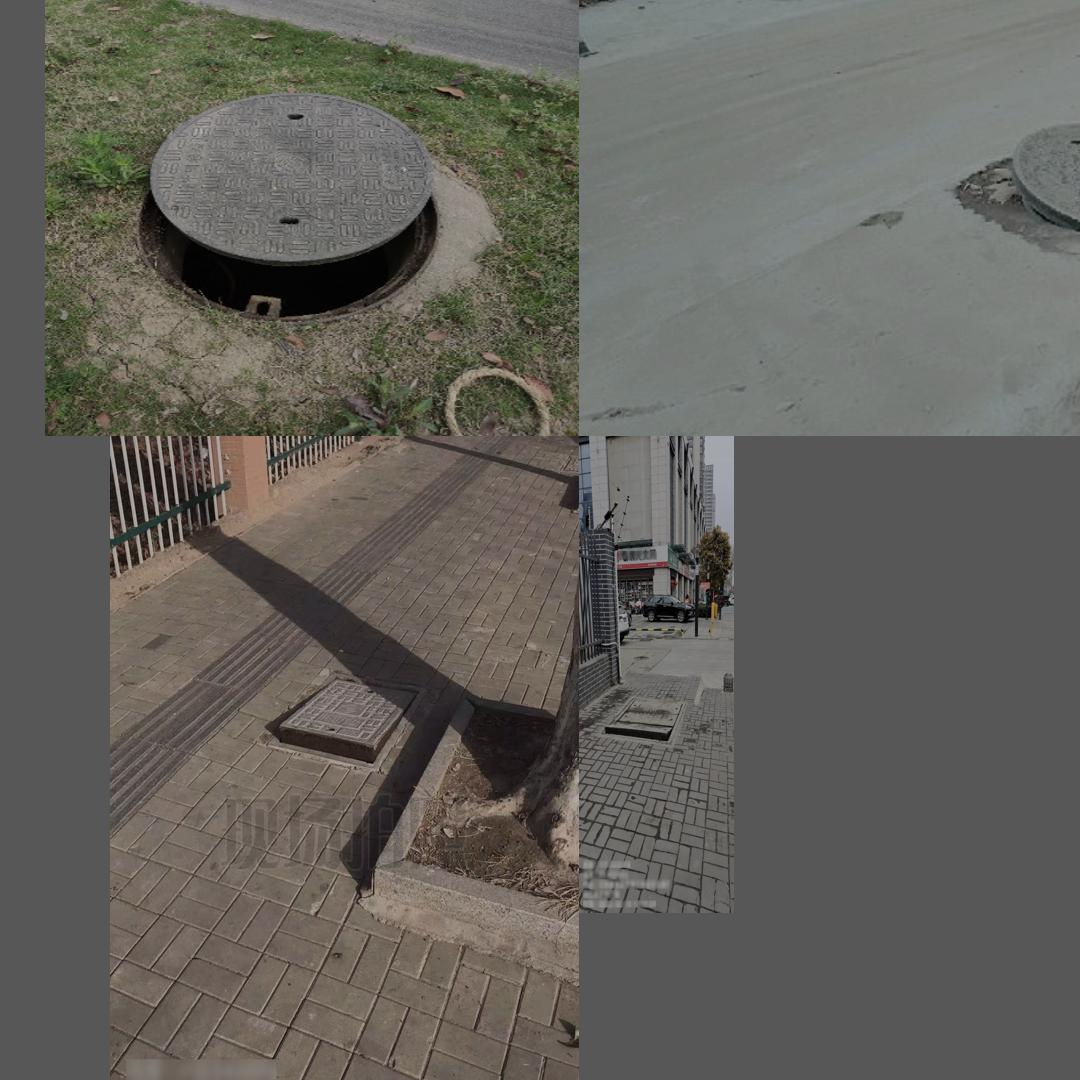uncovered: (135, 91, 435, 318), (265, 672, 426, 770), (1009, 123, 1080, 232), (601, 697, 685, 742)
